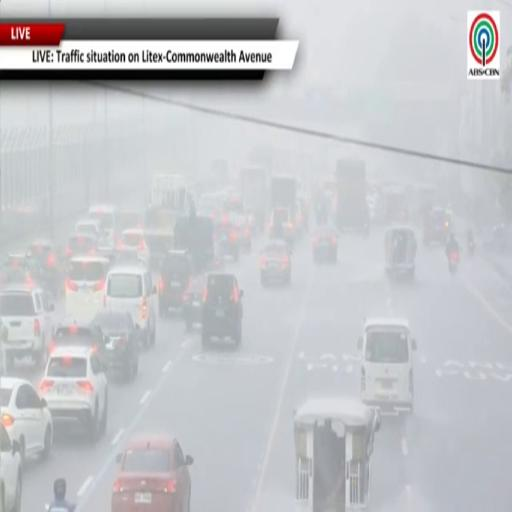car: (40, 347, 108, 441), (111, 435, 193, 511), (358, 318, 416, 413), (0, 284, 55, 366), (0, 377, 52, 461), (104, 266, 157, 346), (92, 310, 140, 381), (202, 274, 243, 347), (65, 256, 109, 317), (49, 317, 105, 361), (158, 251, 193, 316), (26, 240, 62, 297), (0, 423, 22, 511), (260, 240, 291, 285), (183, 275, 206, 330), (88, 205, 116, 249), (117, 229, 150, 265), (215, 214, 240, 261), (145, 229, 173, 268), (0, 254, 31, 287), (424, 207, 450, 245), (269, 207, 294, 245), (312, 227, 338, 263), (65, 233, 98, 258), (116, 208, 144, 236), (234, 215, 251, 251), (75, 218, 101, 237), (224, 196, 244, 214)
motorcycle: (448, 251, 459, 274), (45, 504, 76, 511), (468, 240, 475, 255)
truck: (335, 158, 369, 234), (269, 175, 297, 246), (241, 165, 269, 231), (271, 175, 297, 220)
